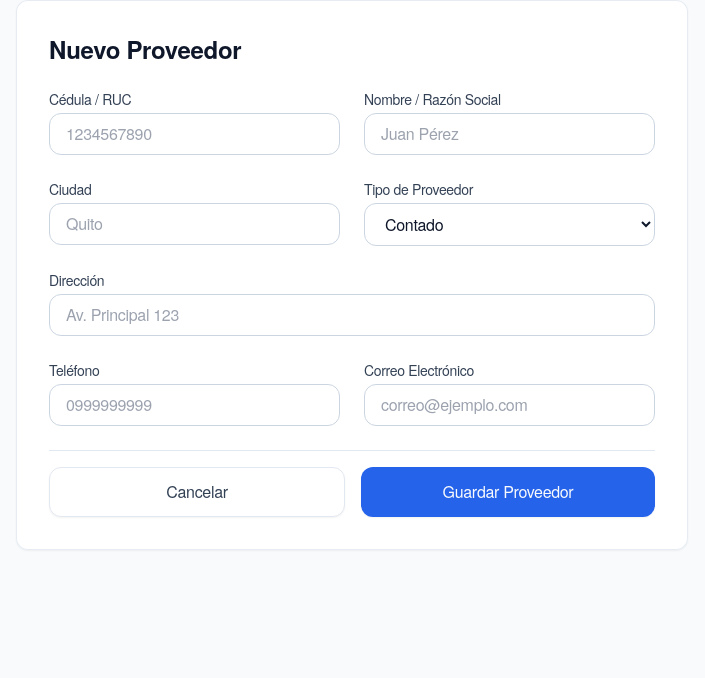
Test case: ProveedorForm (Frontend Visual Validations - CA1) › Valida formato estricto de teléfono
Type "abc" into the field with placeholder "0999999999" at (194, 405), box [49,384,340,426]
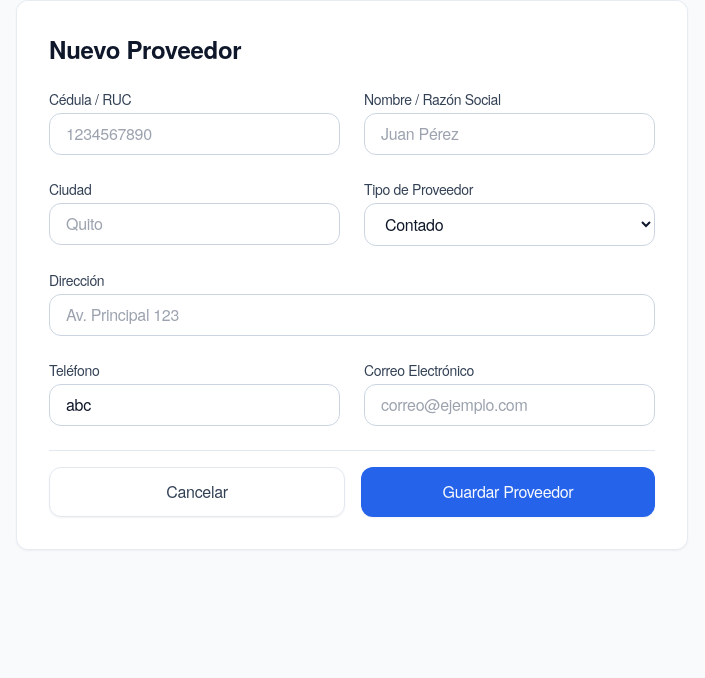
Click the button "Guardar Proveedor" at (508, 492), box [361,467,655,517]
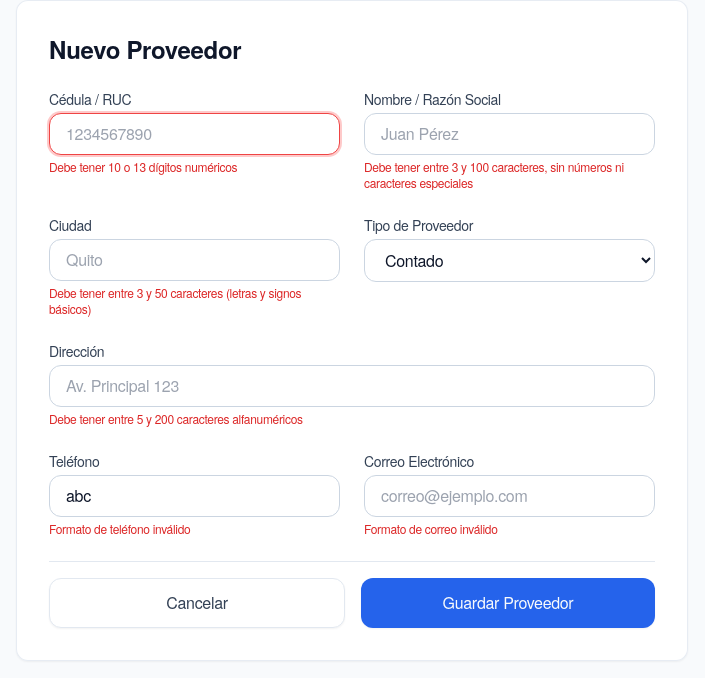
Check: the text "Formato de teléfono inválido" is shown, box [49,520,190,537]
